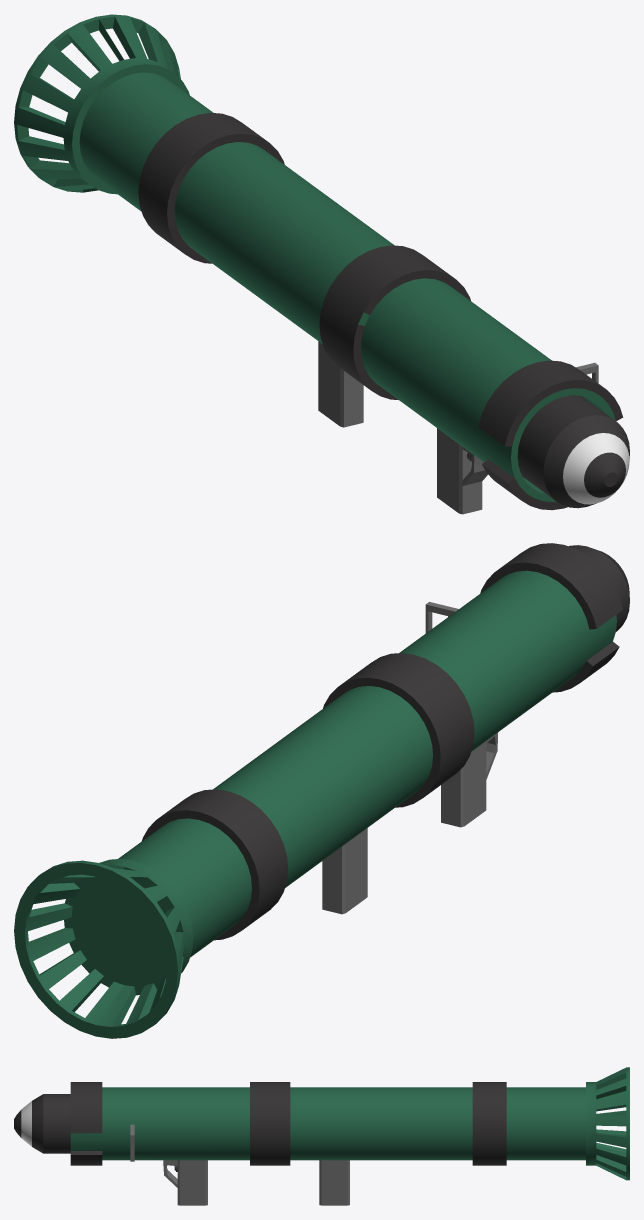
The model's file is Sci fi RPG.fbx.
The picture shows the model from 3 angles, top to bottom: view 1: azimuth 30°, elevation 25°; view 2: azimuth 150°, elevation 25°; view 3: azimuth 270°, elevation 25°; orthographic projection. The views are drawn at different scales.
Visible parts, largest first — view 1: Body, Rocket, grip, grip2; view 2: Body, grip, grip2, Rocket; view 3: Body, Rocket, grip, grip2.
Boxes of the visible parts, left/top/right/bottom form: Body: left=14, top=14, right=623, bottom=510; Rocket: left=517, top=395, right=629, bottom=508; grip: left=437, top=428, right=487, bottom=514; grip2: left=318, top=341, right=363, bottom=427; Body: left=14, top=543, right=622, bottom=1038; grip: left=441, top=732, right=498, bottom=827; grip2: left=322, top=828, right=367, bottom=914; Rocket: left=568, top=545, right=629, bottom=631; Body: left=70, top=1067, right=629, bottom=1180; Rocket: left=14, top=1094, right=70, bottom=1153; grip: left=163, top=1160, right=207, bottom=1205; grip2: left=319, top=1160, right=349, bottom=1205.
Size of the model in its own units: 0.85 by 4.55 by 1.06.
